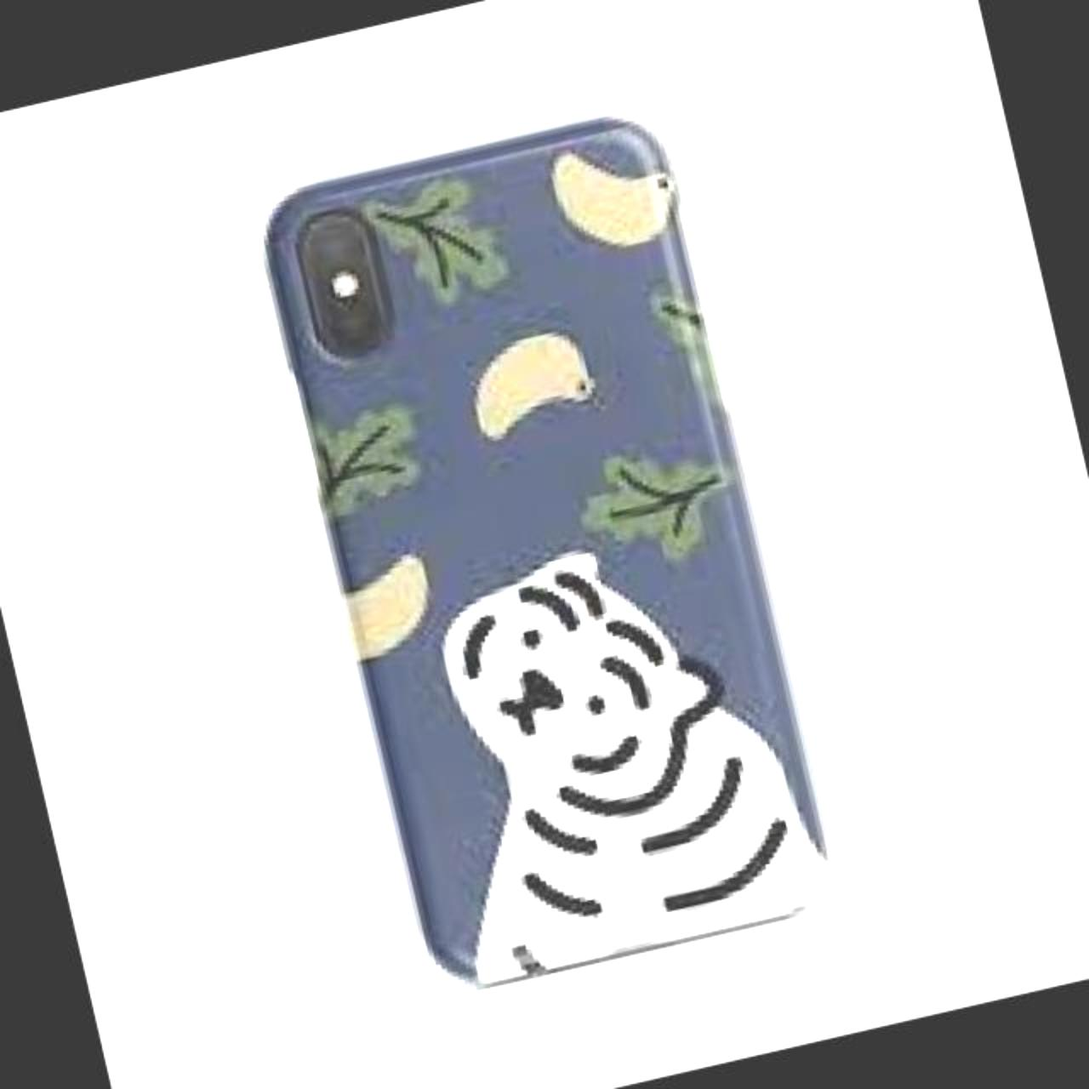phone: (265, 112, 839, 992)
